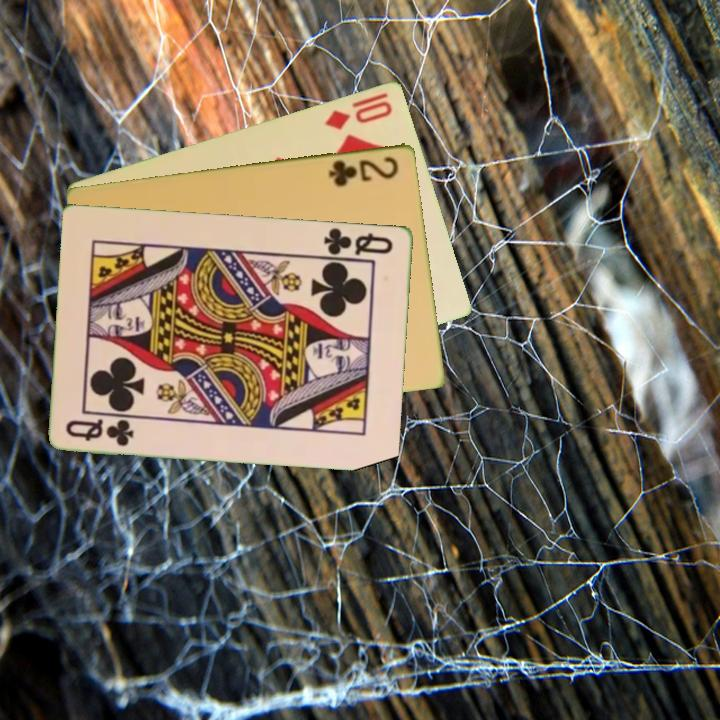10d: (321, 96, 396, 132)
2c: (325, 152, 402, 189)
Qc: (318, 224, 396, 260), (62, 415, 138, 449)
